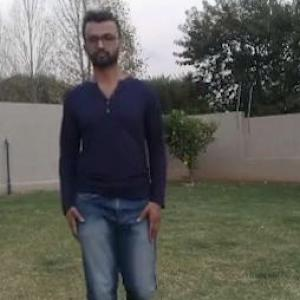follow: (67, 19, 156, 299)
